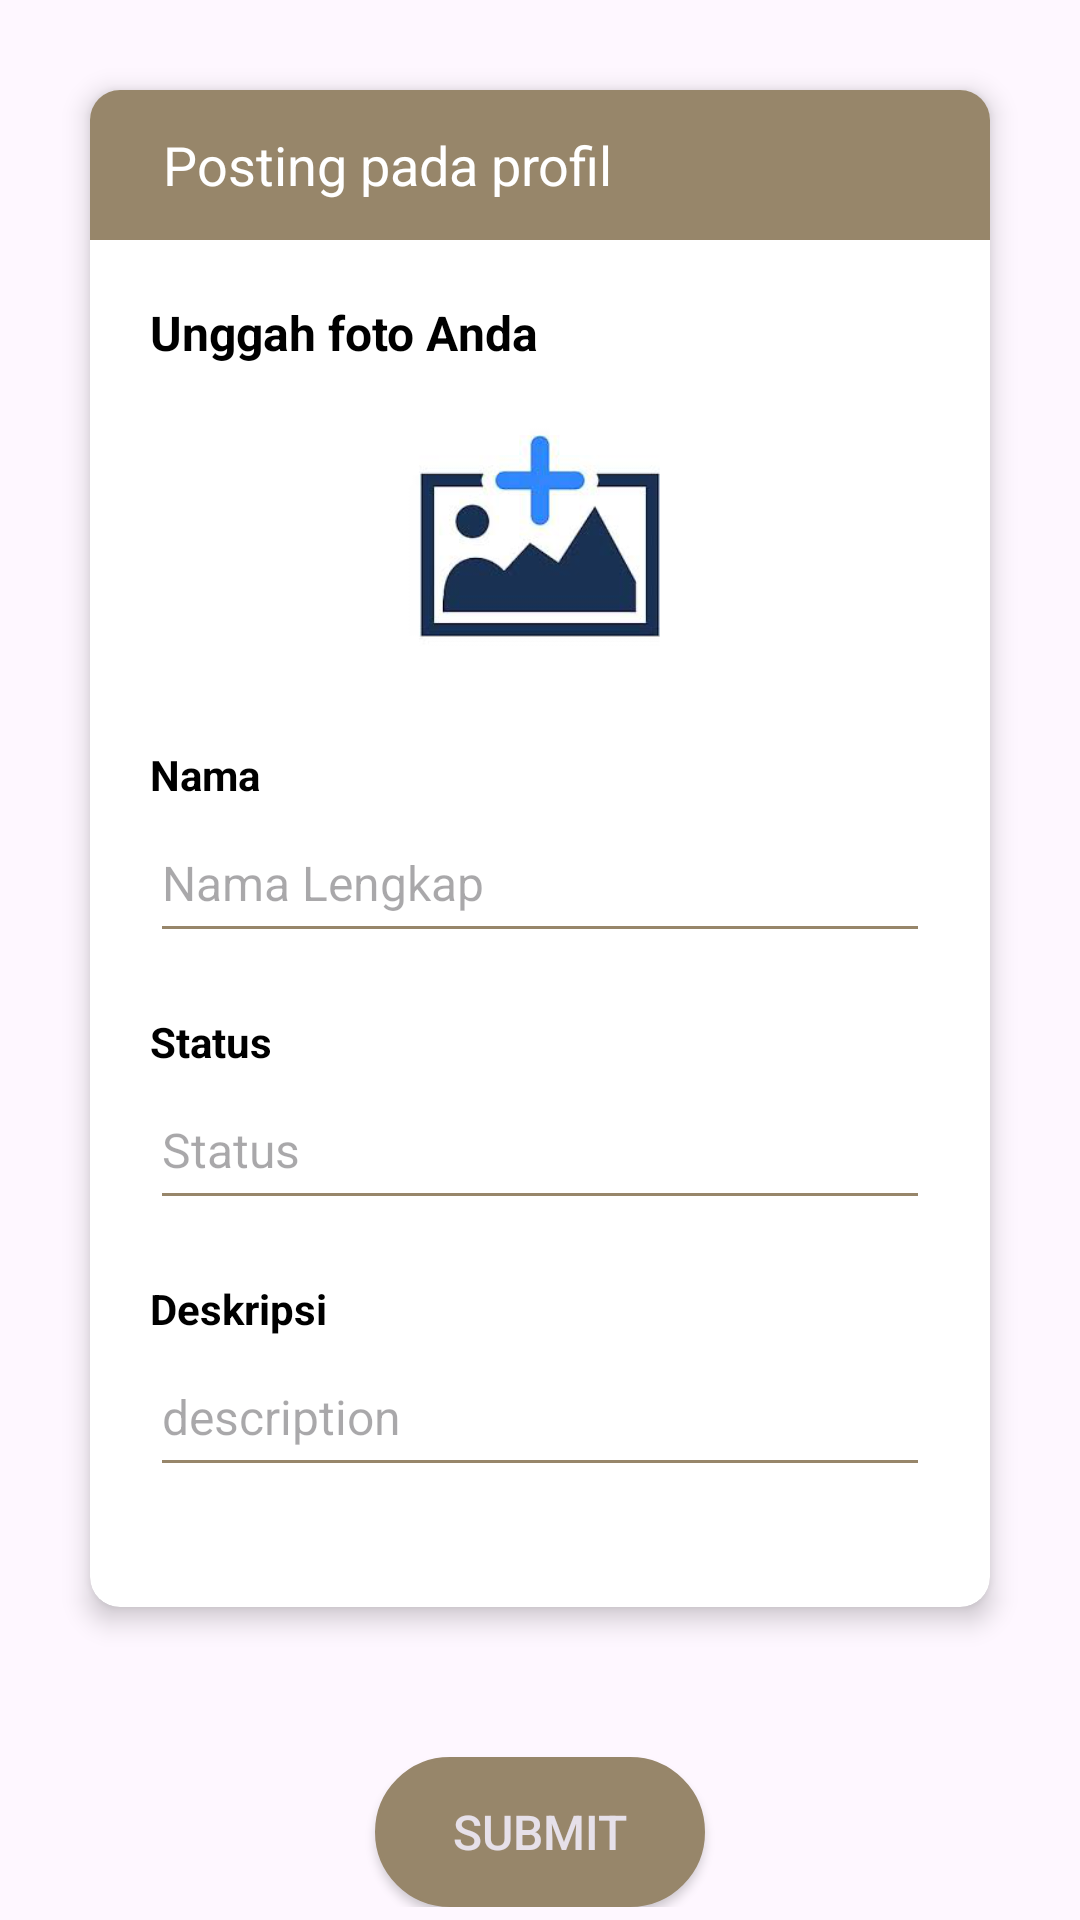

Icons on this 1080px×1920px Android screen, each with the point to tap as point (x, y):
Upload Gambar: point (540, 536)
